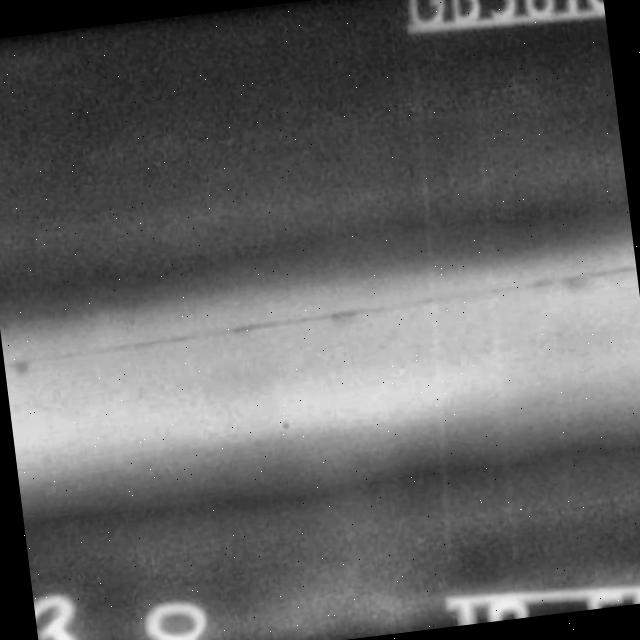LoP-LoF: (0, 255, 639, 382)
